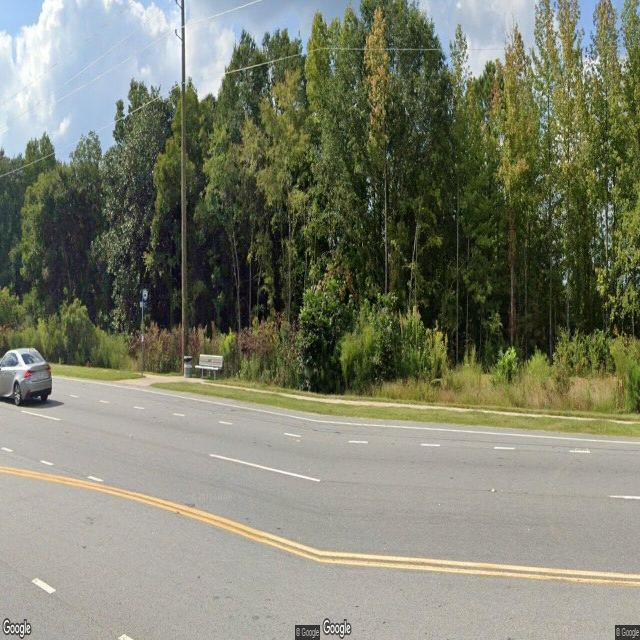seating: (194, 353, 223, 382)
trash_can: (184, 354, 194, 378)
